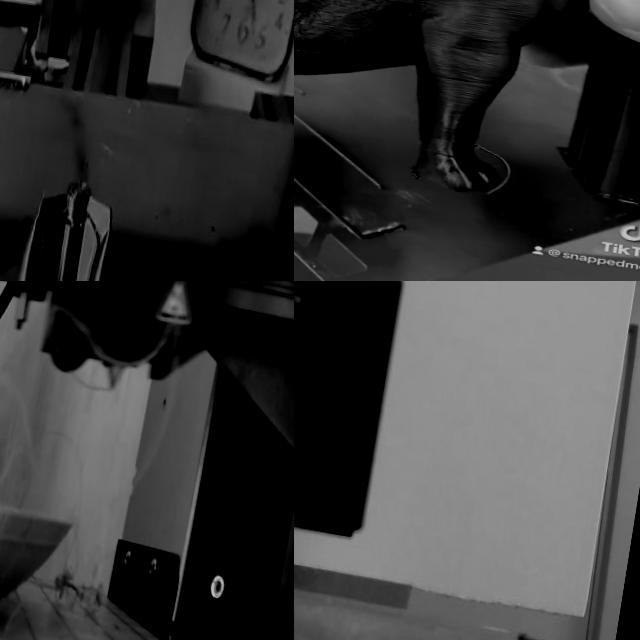spaghetti: (0, 281, 195, 640)
